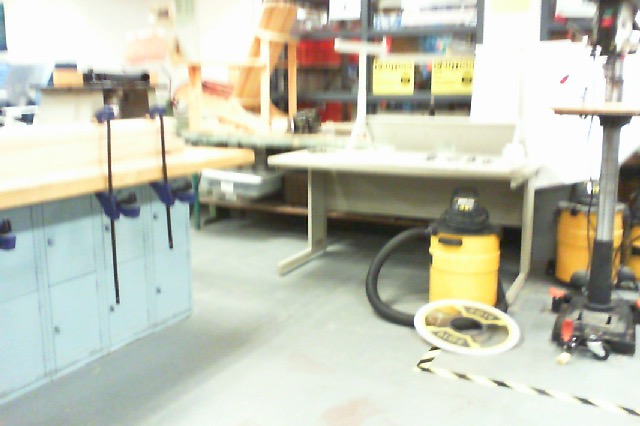Hatch: (413, 300, 521, 356)
